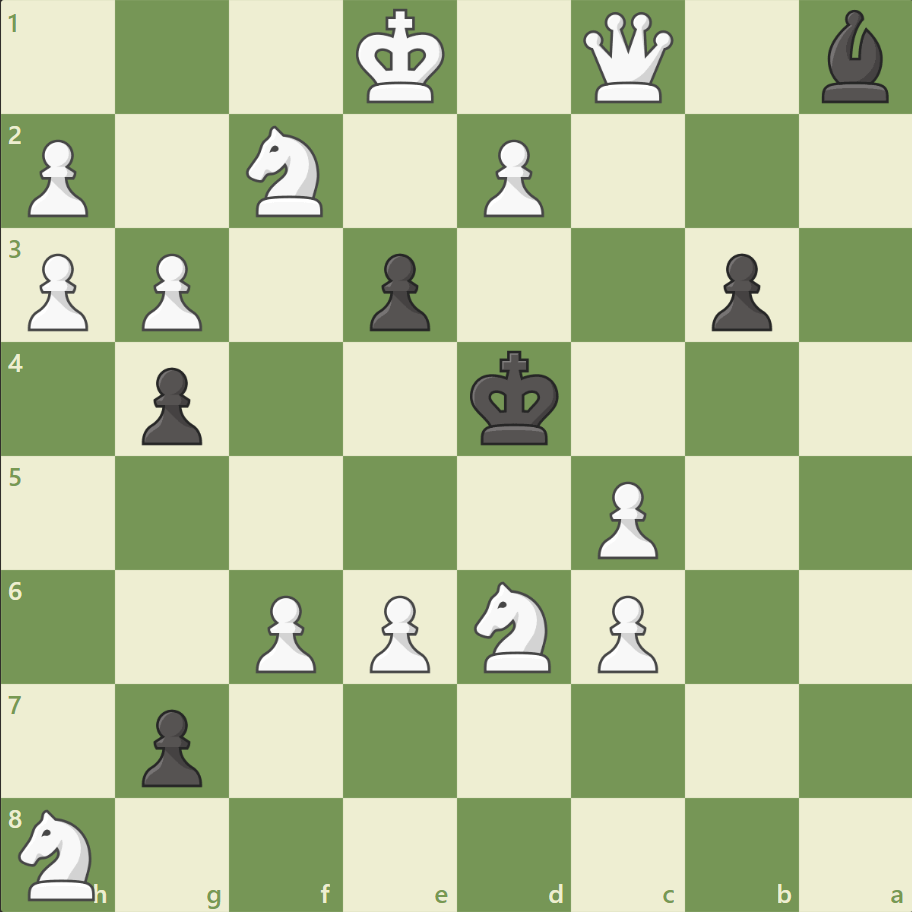K: (351, 4, 451, 112)
N: (11, 802, 108, 904), (465, 575, 562, 677), (238, 121, 335, 223)
P: (247, 586, 322, 677), (133, 246, 208, 337), (20, 246, 95, 337), (474, 132, 549, 223), (20, 132, 95, 223), (588, 586, 662, 677), (361, 586, 435, 677), (588, 473, 662, 564)
Q: (578, 9, 677, 108)
b: (812, 6, 896, 109)
k: (465, 344, 565, 452)
p: (133, 700, 208, 791), (133, 359, 208, 450), (701, 246, 776, 337), (361, 246, 435, 337)
